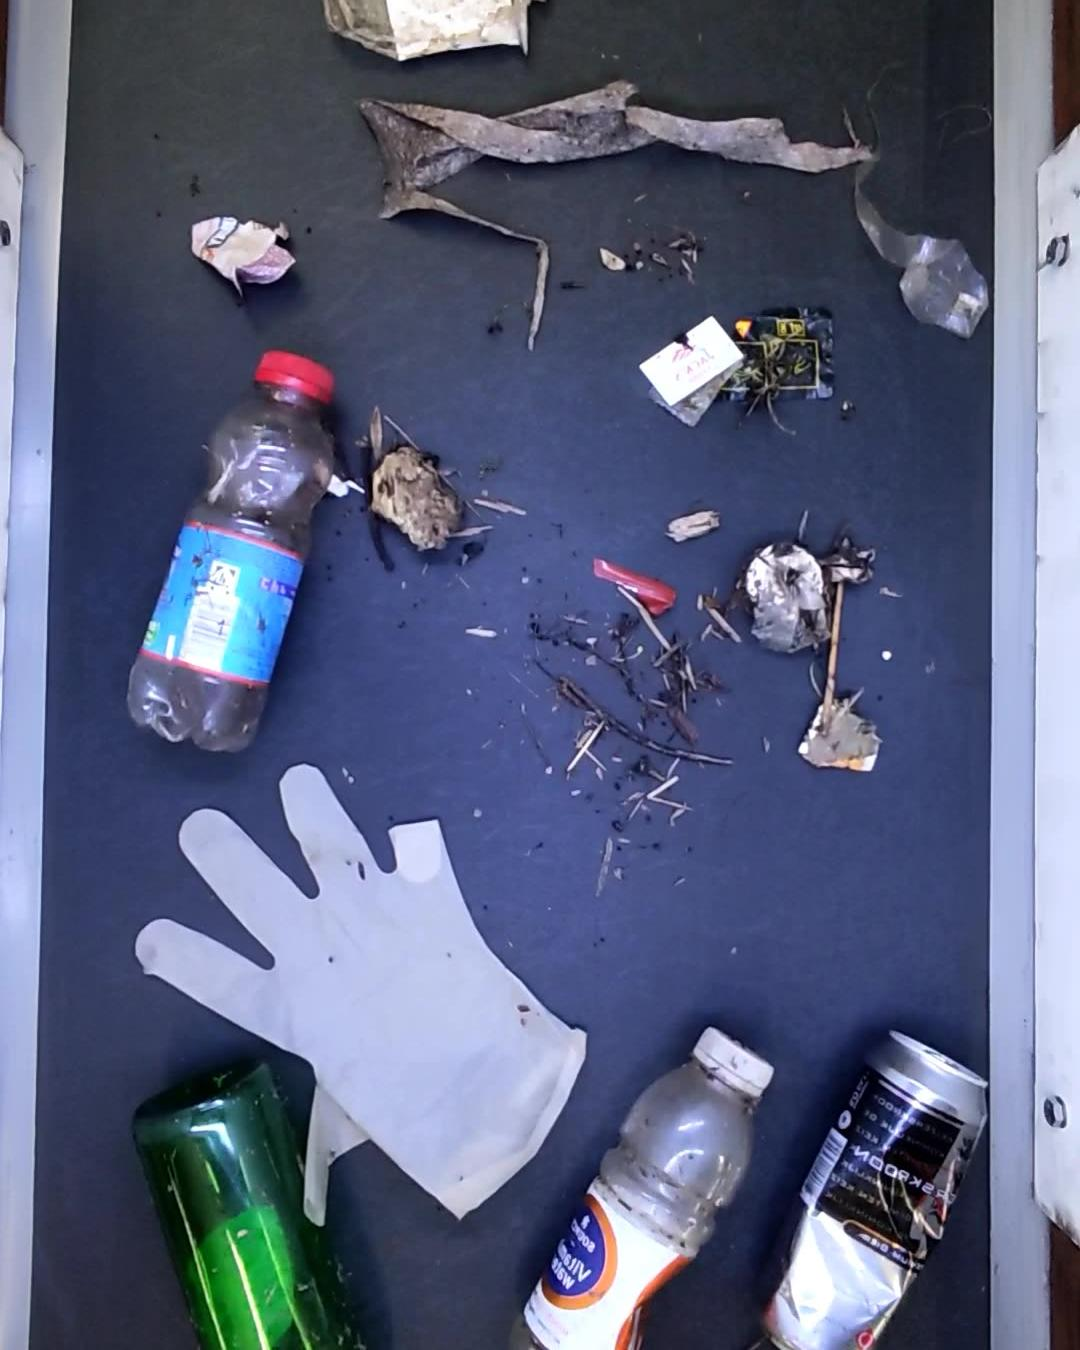Drankblikjes: (760, 1023, 1000, 1350)
Drankflessen - 1-2 liter: (121, 350, 347, 756), (517, 1023, 791, 1349)
Plastic folies of stukken daarvan 2.5- 50 cm: (365, 77, 873, 353), (854, 62, 993, 334), (185, 214, 299, 292), (747, 544, 828, 652)
